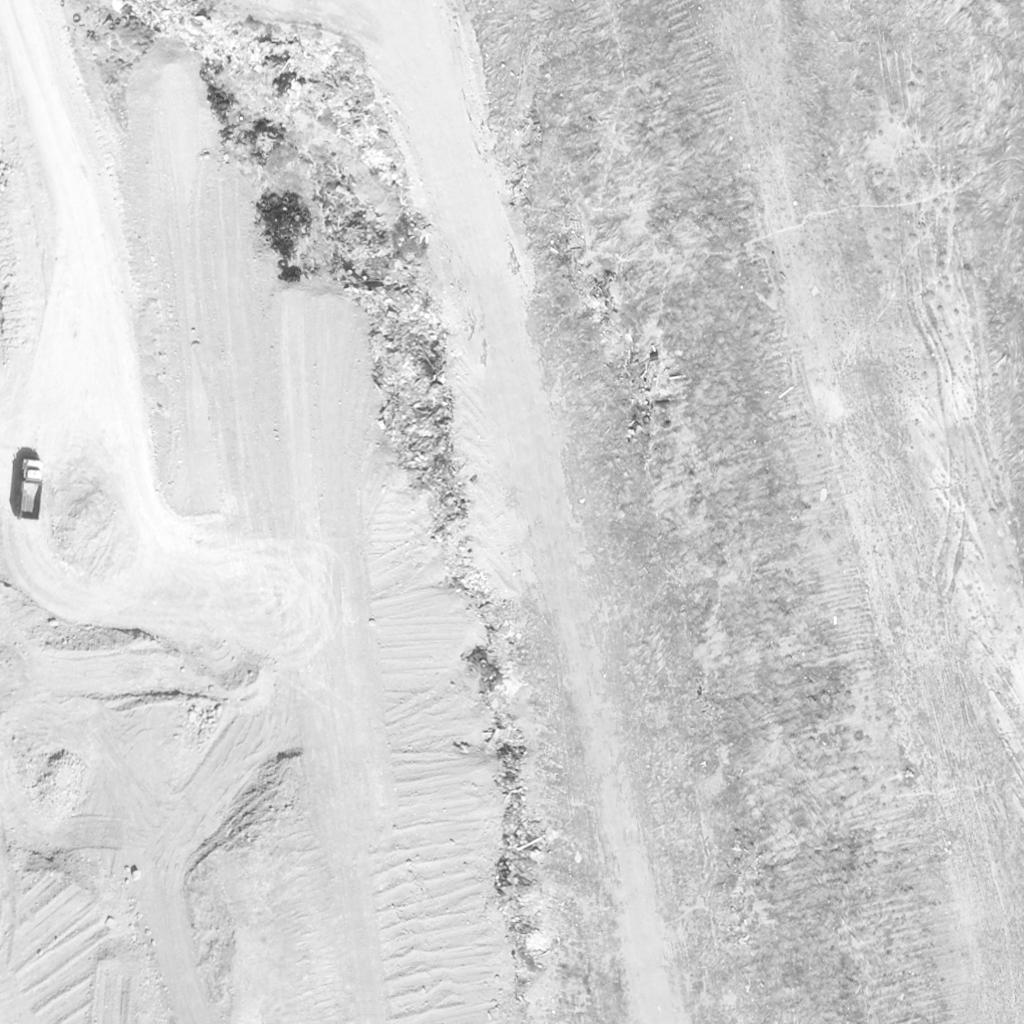vehicle: (18, 459, 44, 523)
